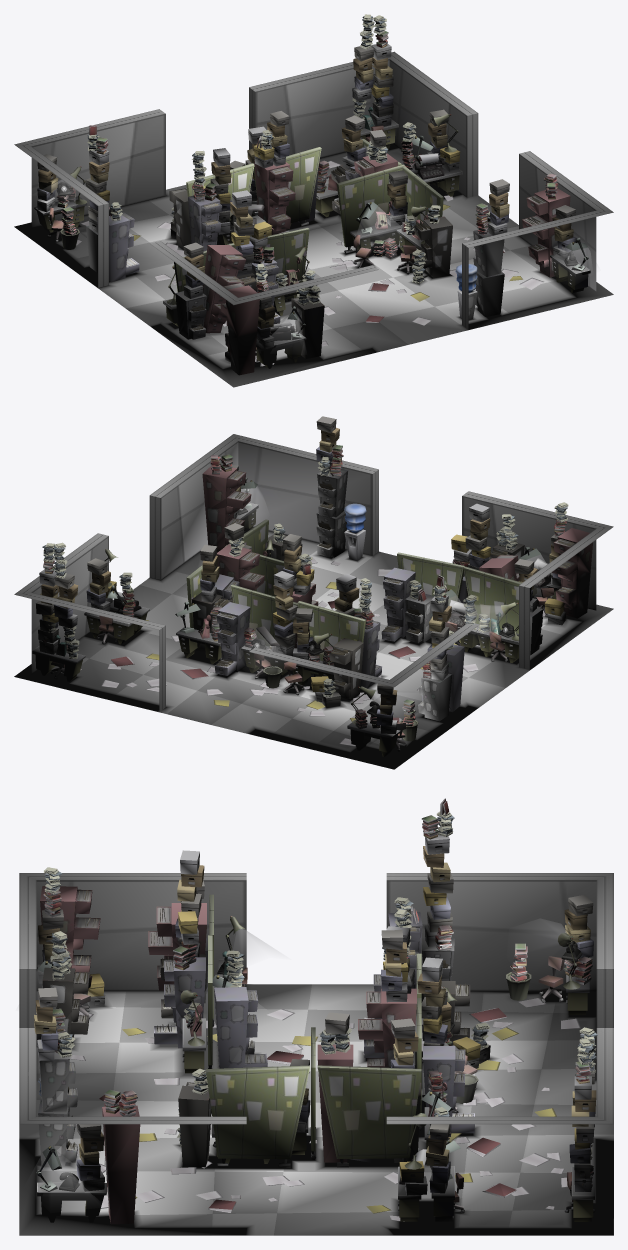
Rendered from field_maze_quadrant4.glb.
The picture shows the model from 3 angles, top to bottom: view 1: azimuth 30°, elevation 25°; view 2: azimuth 150°, elevation 25°; view 3: azimuth 270°, elevation 25°; orthographic projection. The views are drawn at different scales.
Parts seen in each view (by area): view 1: maze_floor, maze1_grouping1, maze2_grouping2, maze5_grouping5, maze9_grouping9, maze10_grouping10, maze6_grouping6, maze8_grouping8, maze3_grouping3, maze4_grouping4, maze6_floorShadow_grouping6, maze11_floorPaperGrouping (+6 smaller); view 2: maze_floor, maze5_grouping5, maze1_grouping1, maze6_grouping6, maze2_grouping2, maze3_grouping3, maze8_grouping8, maze10_grouping10, maze7_grouping7, maze4_grouping4, maze2_floorShadow_grouping2, maze11_floorPaperGrouping (+11 smaller); view 3: maze_floor, maze2_grouping2, maze6_grouping6, maze5_grouping5, maze4_grouping4, maze9_grouping9, maze1_grouping1, maze10_grouping10, maze8_grouping8, maze11_floorPaperGrouping, maze1_floorShadow_grouping1, maze5_floorShadow_grouping5 (+10 smaller).
Boxes of the visible parts, x1,y1,x2,y2 form: maze_floor: (16, 148, 613, 387); maze1_grouping1: (249, 14, 478, 197); maze2_grouping2: (14, 109, 165, 287); maze5_grouping5: (462, 151, 613, 329); maze9_grouping9: (337, 164, 452, 283); maze10_grouping10: (174, 190, 317, 339); maze6_grouping6: (150, 241, 378, 375); maze8_grouping8: (245, 111, 321, 234); maze3_grouping3: (169, 148, 265, 251); maze4_grouping4: (315, 115, 402, 240); maze6_floorShadow_grouping6: (148, 321, 381, 387); maze11_floorPaperGrouping: (76, 160, 543, 366); maze_floor: (14, 531, 610, 769); maze5_grouping5: (149, 416, 378, 579); maze1_grouping1: (14, 533, 165, 711); maze6_grouping6: (462, 491, 613, 669); maze2_grouping2: (249, 575, 477, 756); maze3_grouping3: (283, 574, 381, 707); maze8_grouping8: (215, 534, 318, 688); maze10_grouping10: (397, 503, 543, 655); maze7_grouping7: (381, 567, 518, 662); maze4_grouping4: (175, 523, 264, 664); maze2_floorShadow_grouping2: (244, 701, 480, 769); maze11_floorPaperGrouping: (80, 556, 545, 746); maze_floor: (19, 984, 613, 1235); maze2_grouping2: (386, 798, 613, 1027); maze6_grouping6: (19, 867, 246, 1043); maze5_grouping5: (19, 987, 246, 1224); maze4_grouping4: (317, 1012, 452, 1167); maze9_grouping9: (176, 1027, 315, 1167); maze1_grouping1: (386, 1027, 613, 1221); maze10_grouping10: (148, 850, 214, 1073); maze8_grouping8: (358, 930, 478, 1136); maze11_floorPaperGrouping: (71, 997, 580, 1221); maze1_floorShadow_grouping1: (381, 1136, 613, 1235); maze5_floorShadow_grouping5: (19, 1137, 253, 1235).
Size of the model in its own units: 52.13 by 18.38 by 51.46.
12 materials, 8 textured.
